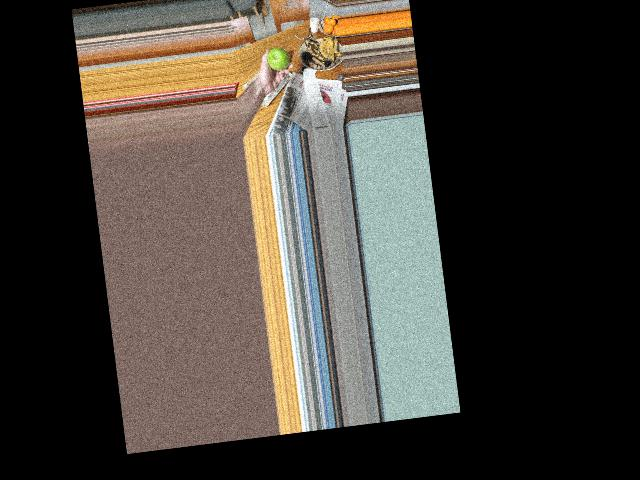apple: (263, 45, 290, 72)
